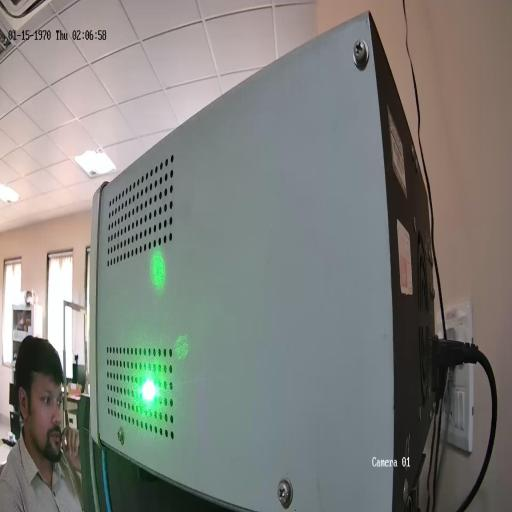laser: (140, 375, 158, 411)
